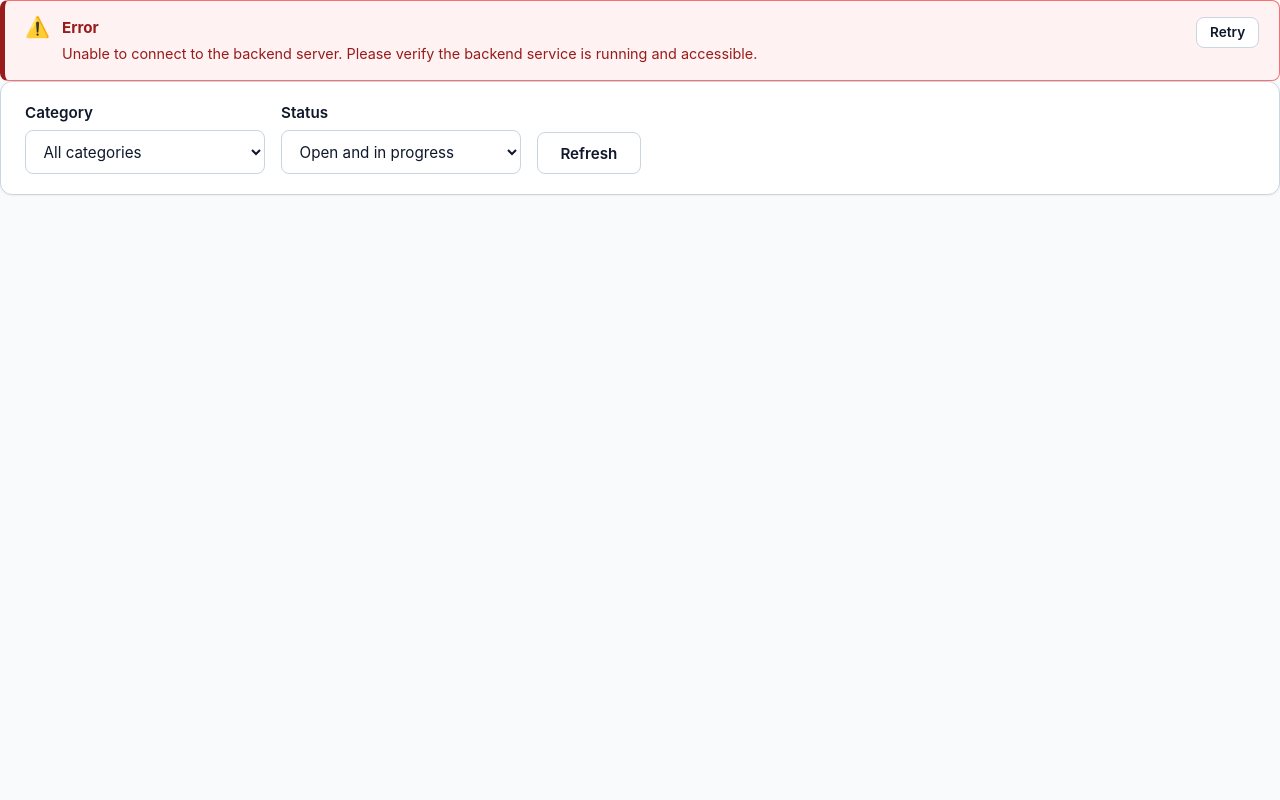
it: Escalation Tracker › shows the error and retries when the API cannot be loaded
Expected: the message shows "Unable to connect to the backend server", [62,45,757,62]
Click the button "Retry": (1228, 32) [1196,17,1259,48]
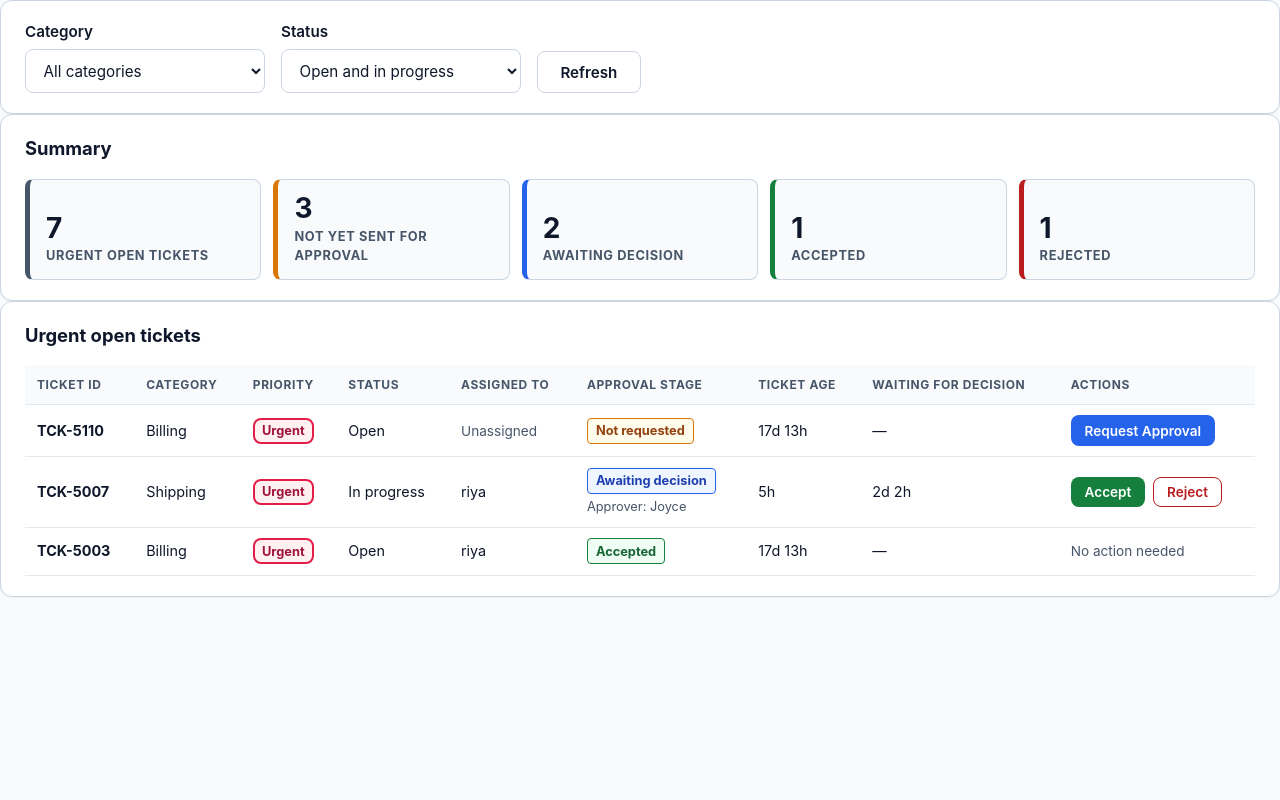
Result: the row with test id "ticket-row-TCK-5110" is shown at [25,405,1255,457]
Result: the message is gone
